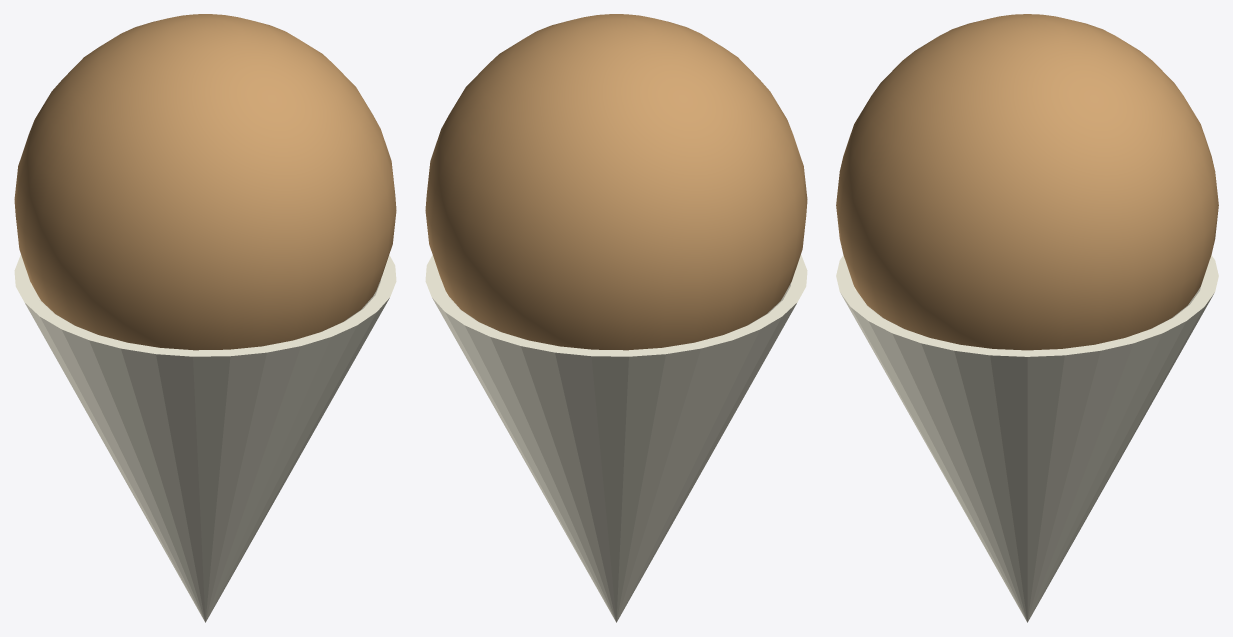
Rendered from ChocolateIcecream.glb.
3 views of the same model, side by side, from view 1: azimuth 30°, elevation 25°; view 2: azimuth 150°, elevation 25°; view 3: azimuth 270°, elevation 25° (orthographic).
Visible parts, largest first — view 1: Sphere, IceCream Cone; view 2: Sphere, IceCream Cone; view 3: Sphere, IceCream Cone.
Part boxes in pixels (x1,y1,x2,y2): Sphere: (14,14,396,350); IceCream Cone: (14,255,396,622); Sphere: (425,14,807,350); IceCream Cone: (425,255,807,622); Sphere: (836,14,1218,350); IceCream Cone: (836,255,1218,622).
Bounding box in the file's own units: 2 × 3.41 × 2.
